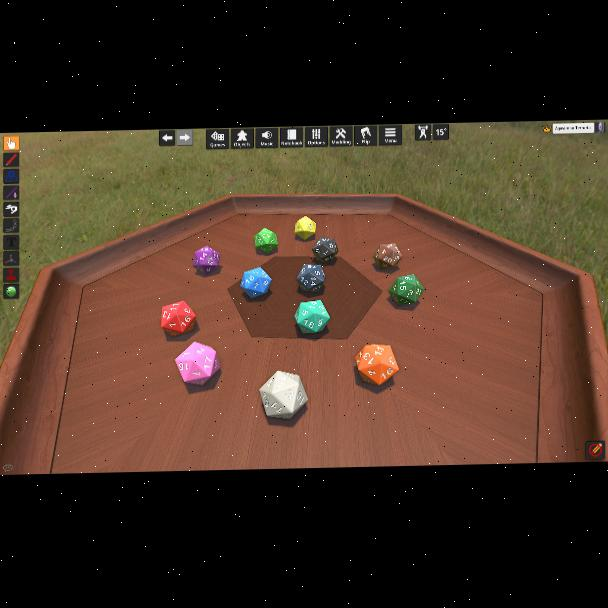d20: (259, 369, 307, 420), (174, 342, 220, 386), (357, 344, 400, 386), (294, 300, 330, 334), (162, 300, 196, 336), (239, 266, 271, 299), (387, 274, 419, 306), (296, 263, 326, 293), (373, 244, 401, 271), (193, 246, 219, 275), (313, 237, 339, 264), (254, 228, 278, 254), (295, 216, 316, 240)
